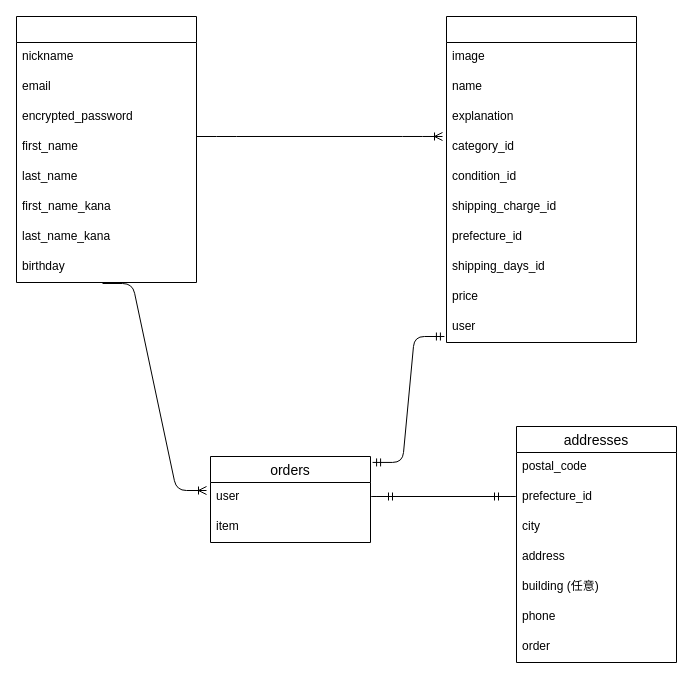
This 693x679 diagram has some shape labels left out. The shapes that lost their labels are listed below. From the top down, each one's box as (x1, y1, x2, y2) in pixels, then its label:
(16, 16, 196, 282): users
(446, 16, 636, 342): items
